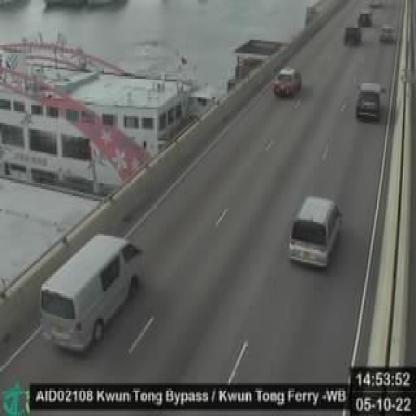Car: (39, 232, 144, 354), (290, 196, 340, 269), (357, 80, 385, 121), (270, 66, 302, 95), (342, 24, 360, 47), (380, 24, 394, 42), (356, 9, 372, 24)
